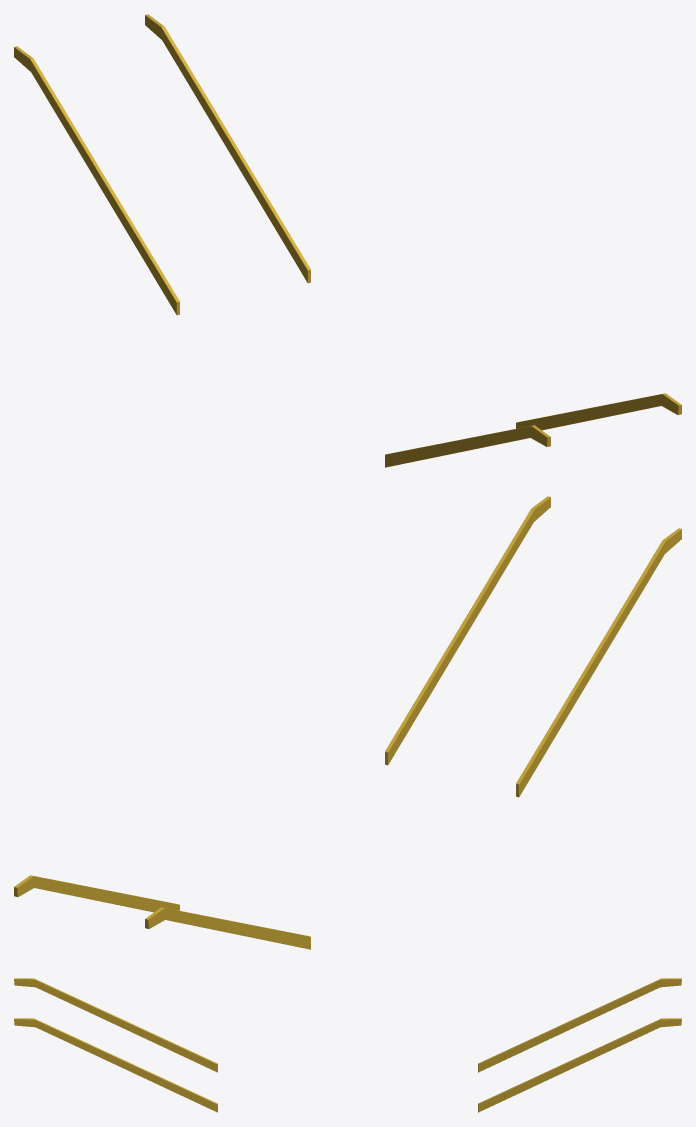
File: MiddleStairWaySideRailing.fbx
3 renders of one model, top to bottom at view 1: azimuth 30°, elevation 25°; view 2: azimuth 150°, elevation 25°; view 3: azimuth 270°, elevation 25°, orthographic. The views are drawn at different scales.
Visible parts, largest first — view 1: Cube.015; view 2: Cube.015; view 3: Cube.015.
Boxes of the visible parts, bbox=[...] form: Cube.015: bbox=[14, 14, 681, 467]; Cube.015: bbox=[14, 496, 681, 949]; Cube.015: bbox=[14, 978, 681, 1112].
Bounding box in the file's own units: 926 × 977 × 6335.
